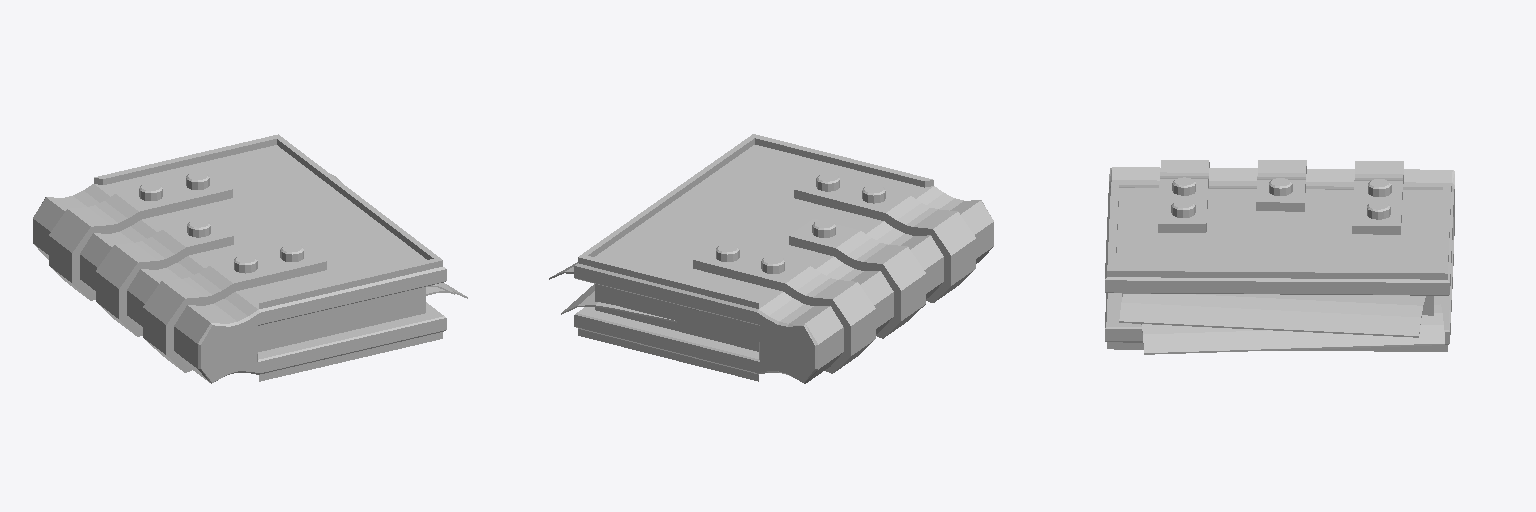
Rendered from Book_Mat.obj.
3 views of the same model, side by side, from view 1: azimuth 30°, elevation 25°; view 2: azimuth 150°, elevation 25°; view 3: azimuth 270°, elevation 25° (orthographic).
Visible parts, largest first — view 1: Book2 Books Scene; view 2: Book2 Books Scene; view 3: Book2 Books Scene.
Part boxes in pixels (bbox=[...]): Book2 Books Scene: bbox=[33, 134, 467, 383]; Book2 Books Scene: bbox=[549, 134, 993, 383]; Book2 Books Scene: bbox=[1105, 160, 1454, 354].
Size of the model in its own units: 3.09 by 0.9132 by 3.15.